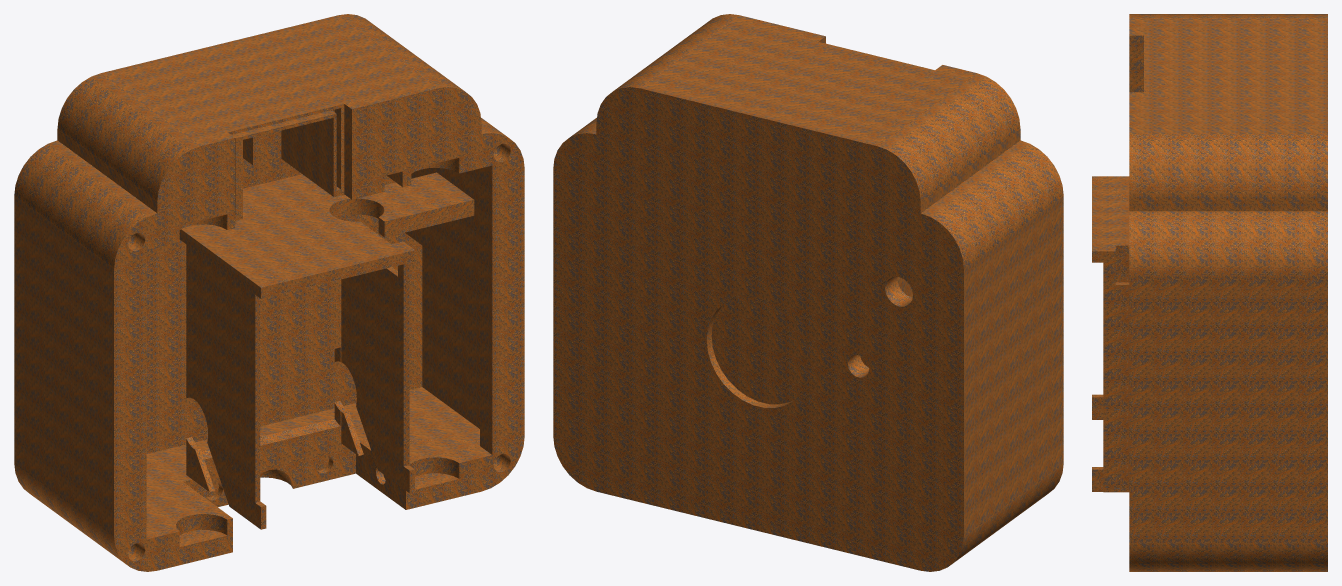
File: projekt1.glb
The picture shows the model from 3 angles, left to right: view 1: azimuth 30°, elevation 25°; view 2: azimuth 150°, elevation 25°; view 3: azimuth 270°, elevation 25°; orthographic projection.
Parts seen in each view (by area): view 1: Těleso1; view 2: Těleso1; view 3: Těleso1.
Boxes of the visible parts, x1,y1,x2,y2 form: Těleso1: (14,14,524,571); Těleso1: (553,14,1063,571); Těleso1: (1092,14,1327,571).
Size of the model in its own units: 0.19 by 0.183 by 0.095.
Materials: 1 (1 with a texture image).
